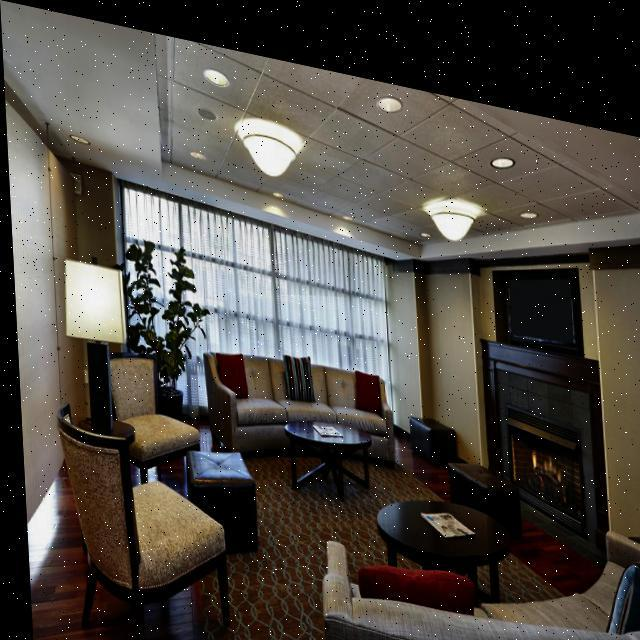Fire: (523, 428, 558, 471)
